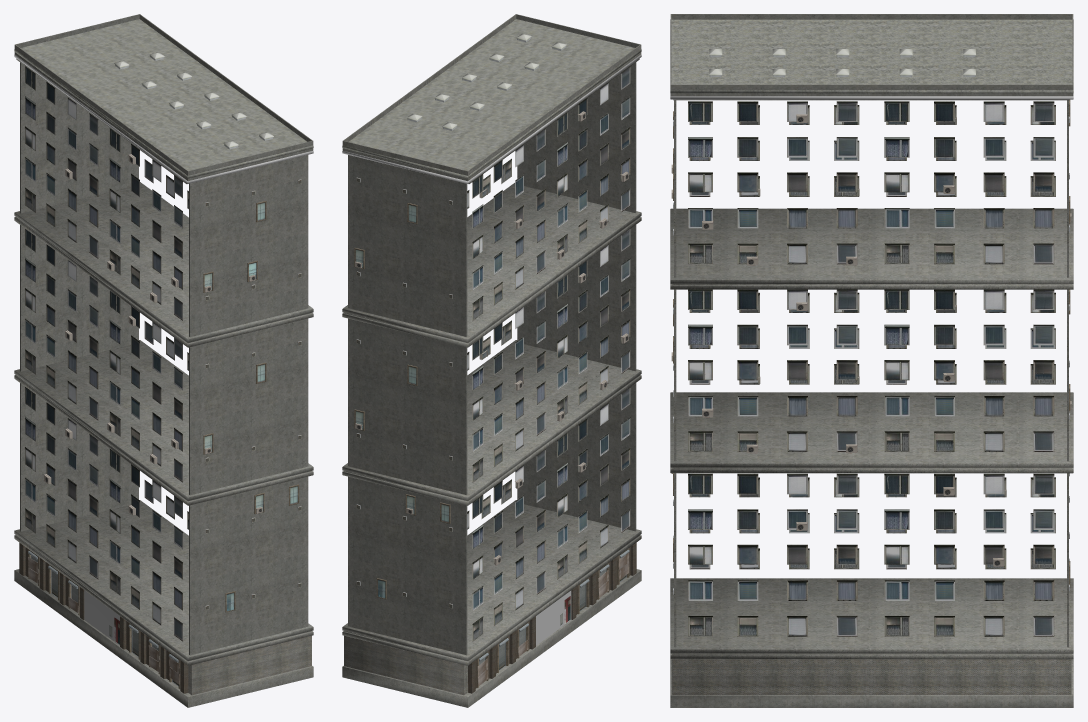
The model's file is u2EBuild4.gltf.
3 renders of one model, left to right at view 1: azimuth 30°, elevation 25°; view 2: azimuth 150°, elevation 25°; view 3: azimuth 270°, elevation 25°, orthographic. The views are drawn at different scales.
Visible parts, largest first — view 1: u2EBuild4; view 2: u2EBuild4; view 3: u2EBuild4.
Boxes of the visible parts, x1=… form: u2EBuild4: x1=14, y1=14, x2=313, y2=707; u2EBuild4: x1=342, y1=14, x2=641, y2=707; u2EBuild4: x1=670, y1=14, x2=1073, y2=707.
Size of the model in its own units: 4.93 by 20.15 by 11.81.
